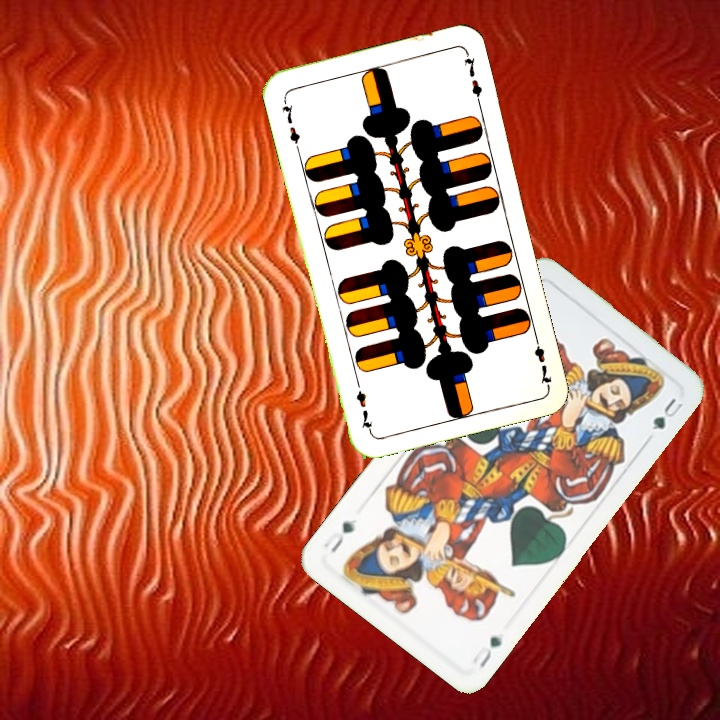E7: (277, 94, 303, 152), (530, 330, 555, 388)
GU: (468, 632, 506, 671)
